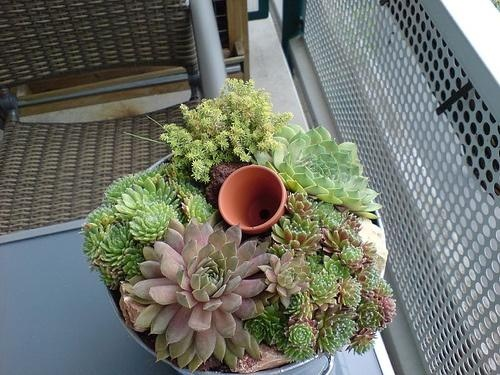pottedplant: (85, 78, 400, 375)
